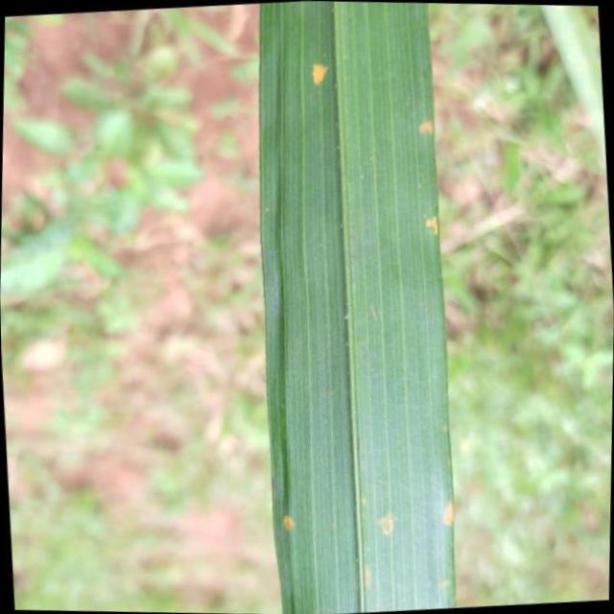Kalium: (258, 0, 460, 614)
